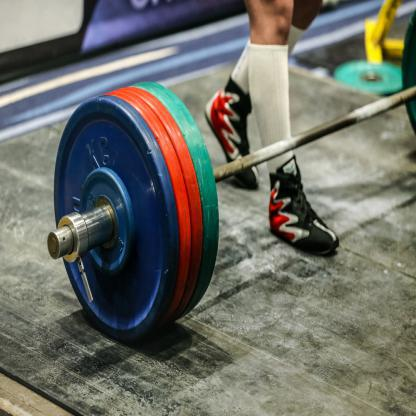Barbell: (48, 90, 192, 346)
